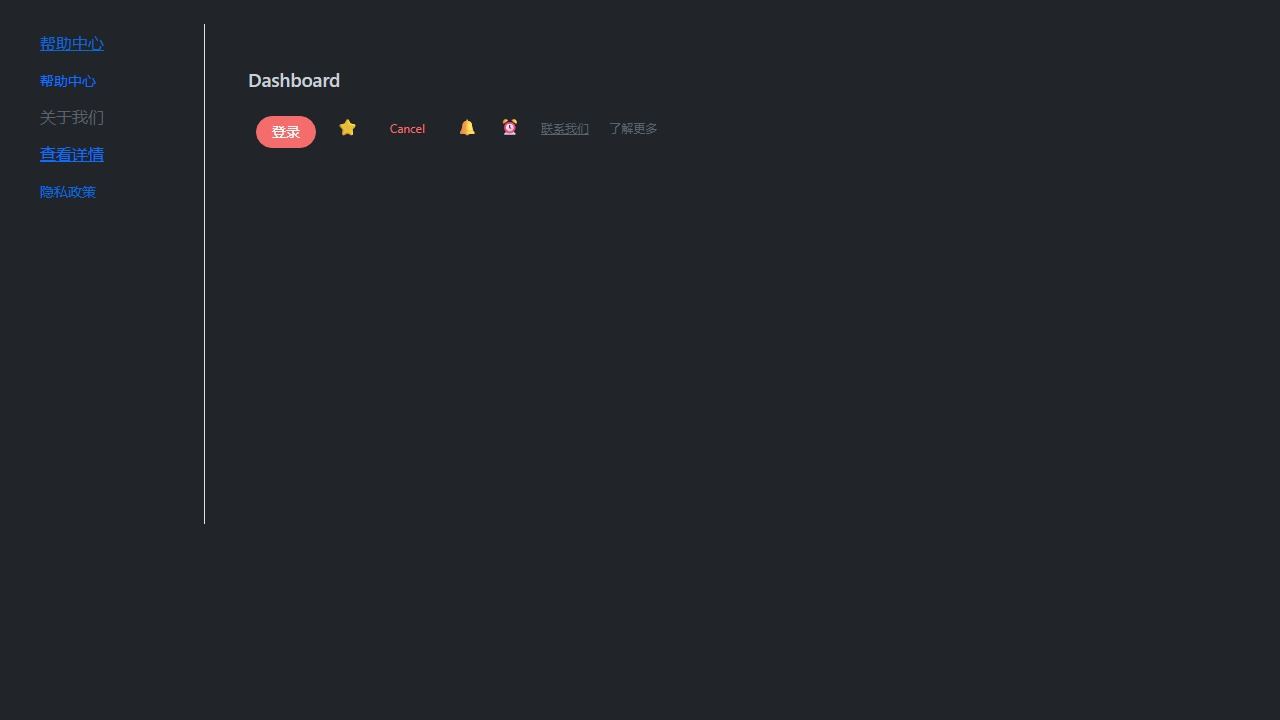button: (256, 116, 316, 148), (379, 117, 436, 139)
icon: (336, 119, 358, 135), (456, 119, 478, 135), (499, 119, 521, 135)
link: (40, 32, 104, 53), (40, 106, 104, 127), (40, 143, 104, 164), (40, 71, 96, 90), (40, 182, 96, 201), (541, 120, 589, 136), (609, 120, 657, 136)
